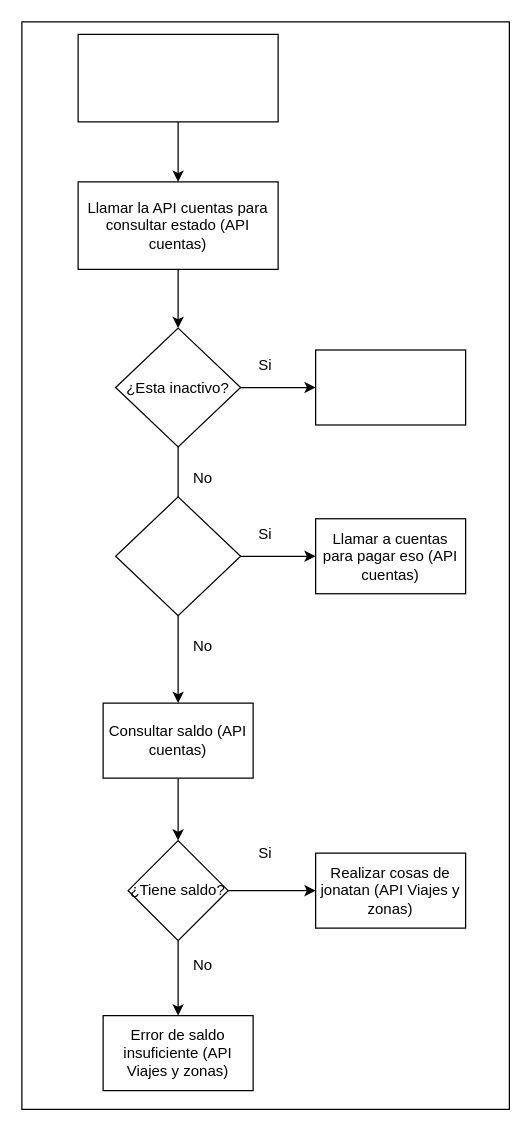
Some shapes in this 531 by 1131 pixel diagram are drawn without their labels. Here are the shapes that lost their labels. From the top down, the box of each, then its label:
(77, 33, 278, 122): Usuario solicita un viaje
(314, 349, 466, 425): Mostrar mensaje de usuario inactivo, no se puede realizar el viaje.
(114, 496, 241, 616): ¿Tiene liquidación pendiente?
